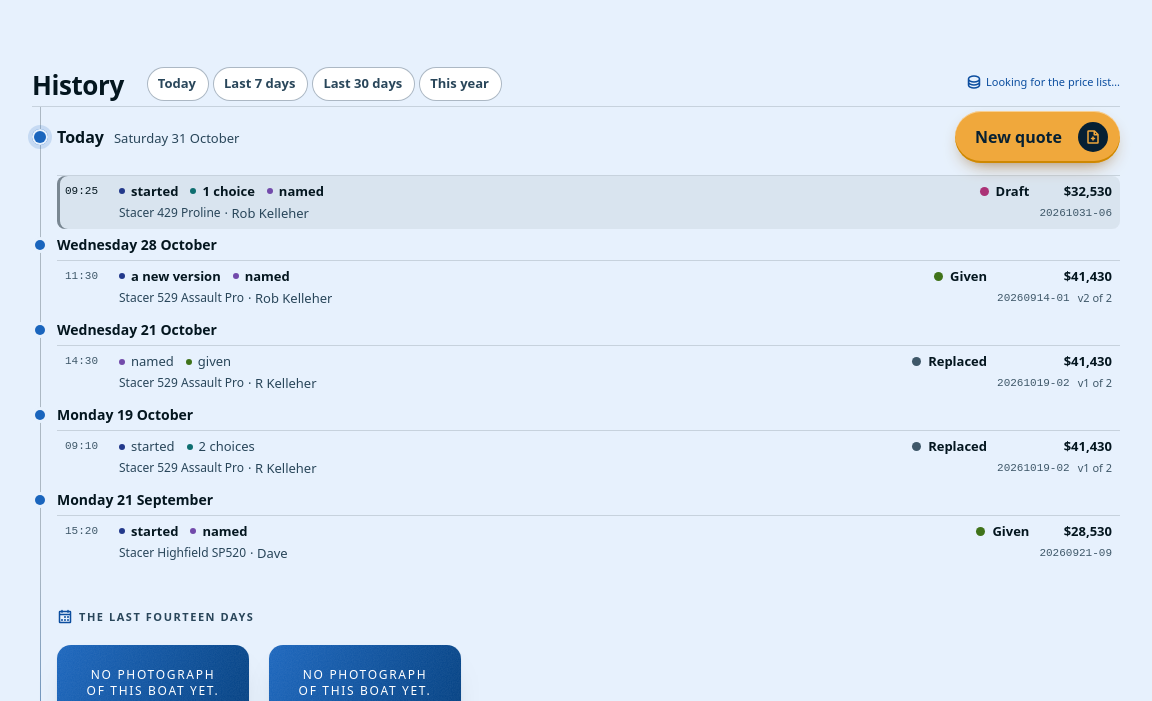
Test: the diary, with quotes in it › opens a line in place to the sentences the commands said, each with its time, and nothing written here
The image size is (1152, 701).
Click the row that starts with "a new version" at (82, 276), box [57, 261, 1120, 314]
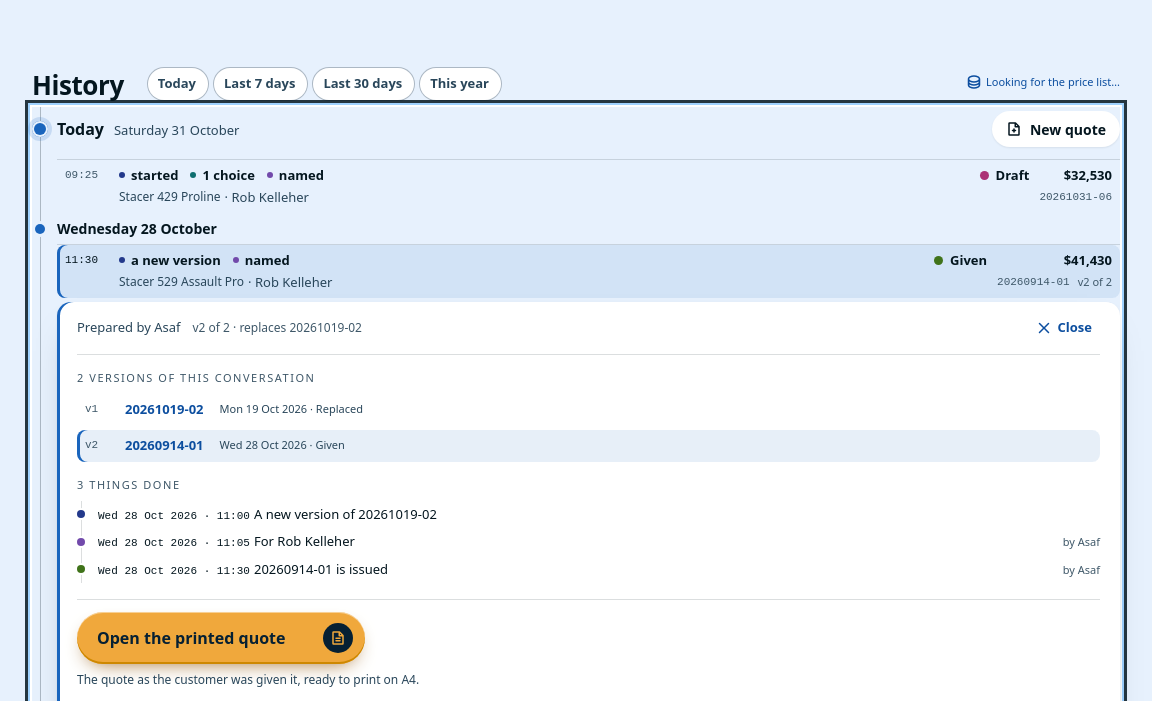
Expected: the text "Wed 28 Oct 2026 · 11:00" is shown 3 times, [98, 508, 242, 524]; [98, 535, 242, 552]; [98, 563, 242, 579]
Expected: the text "3 things done" is shown, [77, 477, 180, 492]
Expected: the text "by Asaf" in the row of "11:05" is shown, [1063, 534, 1100, 551]
